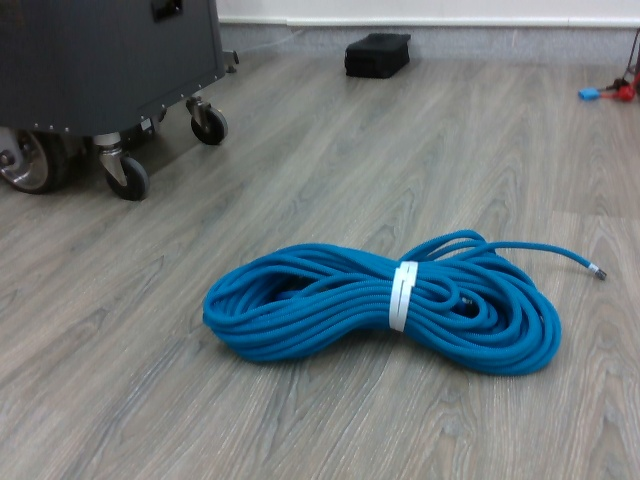rope: (199, 225, 568, 382)
